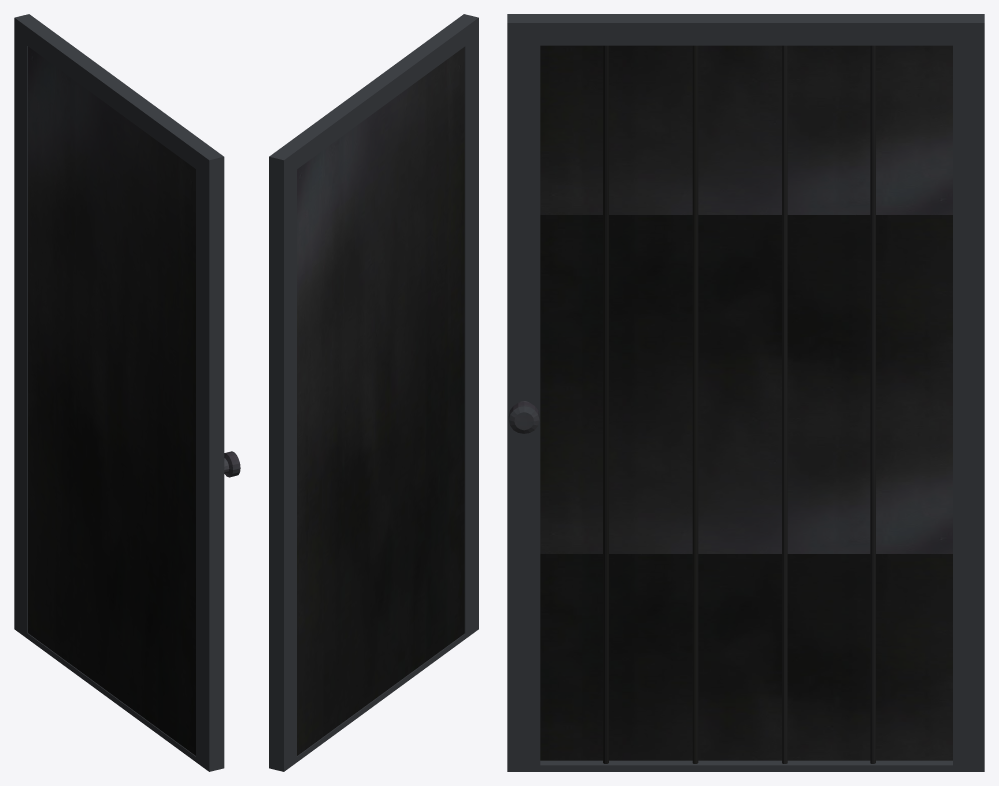
The model's file is WALLS DOOR.fbx.
3 renders of one model, left to right at view 1: azimuth 30°, elevation 25°; view 2: azimuth 150°, elevation 25°; view 3: azimuth 270°, elevation 25°, orthographic. The views are drawn at different scales.
Parts seen in each view (by area): view 1: polySurface10, polySurface12; view 2: polySurface10, polySurface12; view 3: polySurface10, polySurface12.
Boxes of the visible parts, x1,y1,x2,y2 form: polySurface10: (28, 46, 195, 755); polySurface12: (14, 14, 240, 771); polySurface10: (297, 47, 464, 755); polySurface12: (269, 14, 478, 771); polySurface10: (540, 45, 952, 763); polySurface12: (507, 14, 984, 771).
Bounding box in the file's own units: 0.1398 × 2.42 × 1.4.
1 material, 1 textured.
